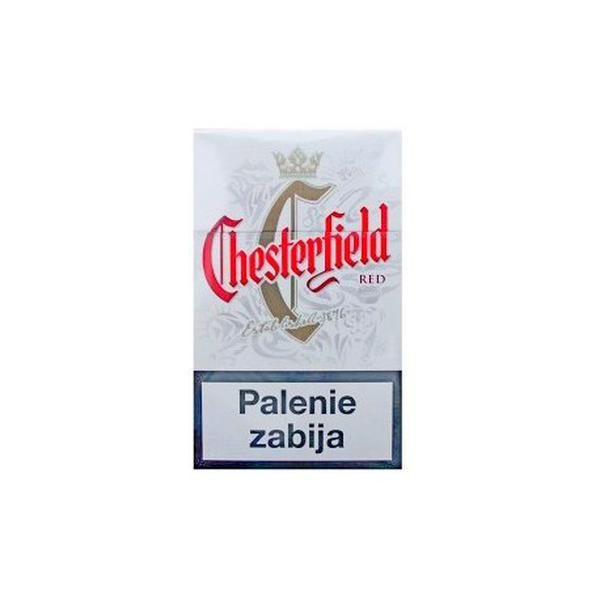chesterfield_red: (195, 132, 400, 467)
